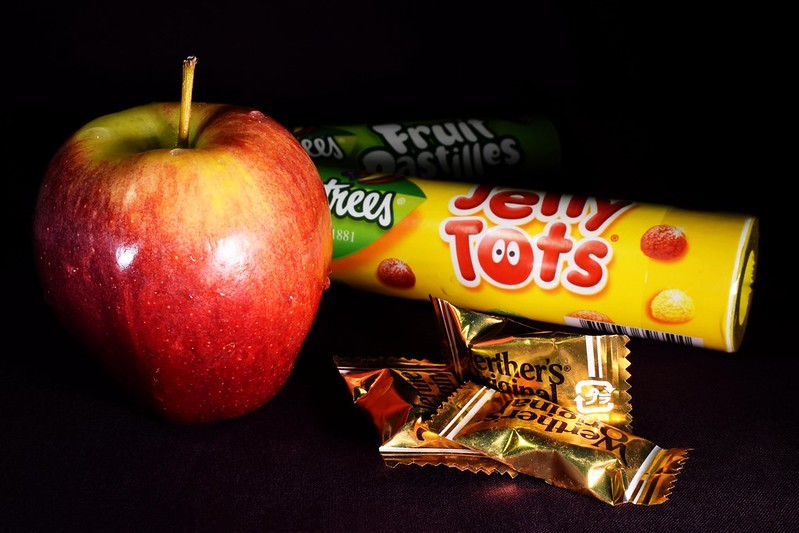apple: (35, 88, 345, 433)
